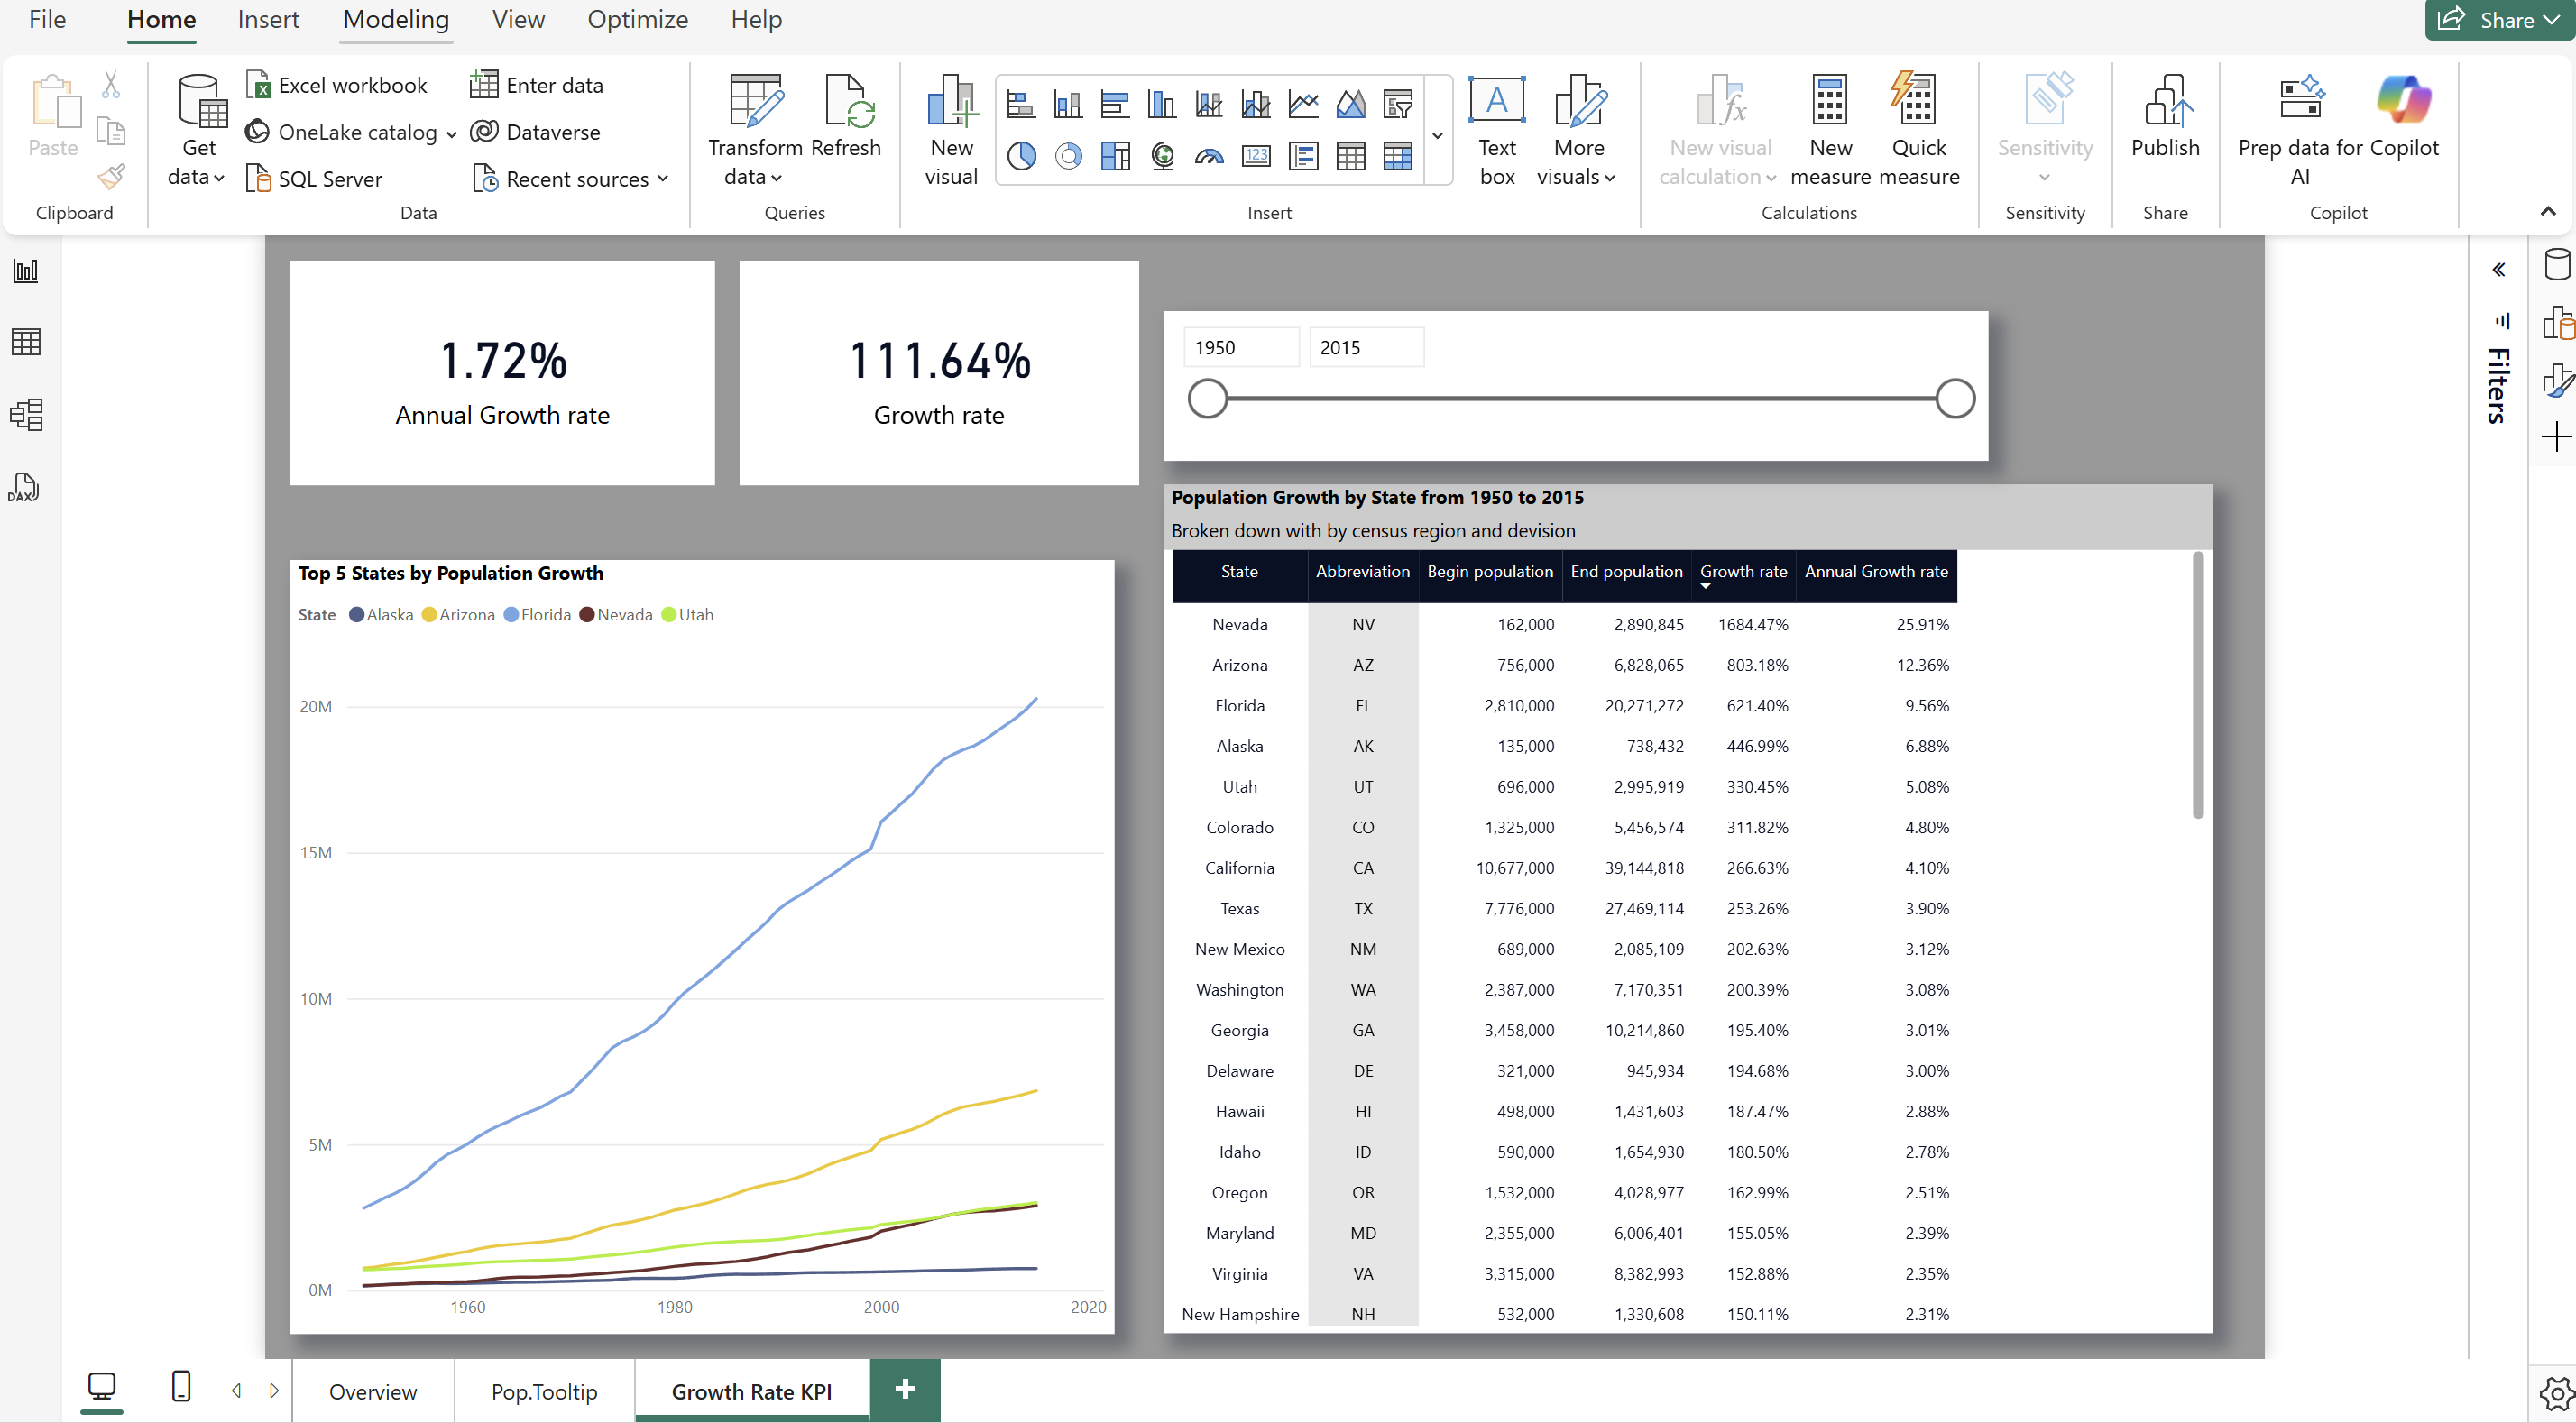

The page's visual inventory and layout, read from the dashboard file:
{"tool":"powerbi","page":{"name":"Growth Rate ","canvas":[1280,720],"ordinal":2},"visuals":[{"type":"tableEx","fields":{"Values":["States.State","States.Abbreviation","_Measures.Begin population","_Measures.End population","_Measures.Growth rate","_Measures.Annual Growth rate"]},"box":[576,160,672,544],"z":0},{"type":"slicer","fields":{"Values":["us-states-population-by-year.Year"]},"box":[576,48,528,96],"z":1000},{"type":"lineChart","title":"Top 5 States by Population Growth","fields":{"Category":["us-states-population-by-year.Year"],"Y":["_Measures.Population"],"Series":["States.State"]},"box":[16,208,528,496],"z":2000},{"type":"card","fields":{"Values":["_Measures.Annual Growth rate"]},"box":[16,16,272,144],"z":3000},{"type":"card","fields":{"Values":["_Measures.Growth rate"]},"box":[304,16,256,144],"z":4000}]}

Visuals, with their boxes on the page's 1280x720 design canvas (x1, y1, x2, y2). These are canvas units, not pixel positions in the 2576x1423 screenshot, which may show the page scaled, cropped or inside an application window:
tableEx - States.State x States.Abbreviation: locate(576, 160, 1248, 704)
slicer - us-states-population-by-year.Year: locate(576, 48, 1104, 144)
"Top 5 States by Population Growth" lineChart: locate(16, 208, 544, 704)
card - _Measures.Annual Growth rate: locate(16, 16, 288, 160)
card - _Measures.Growth rate: locate(304, 16, 560, 160)
